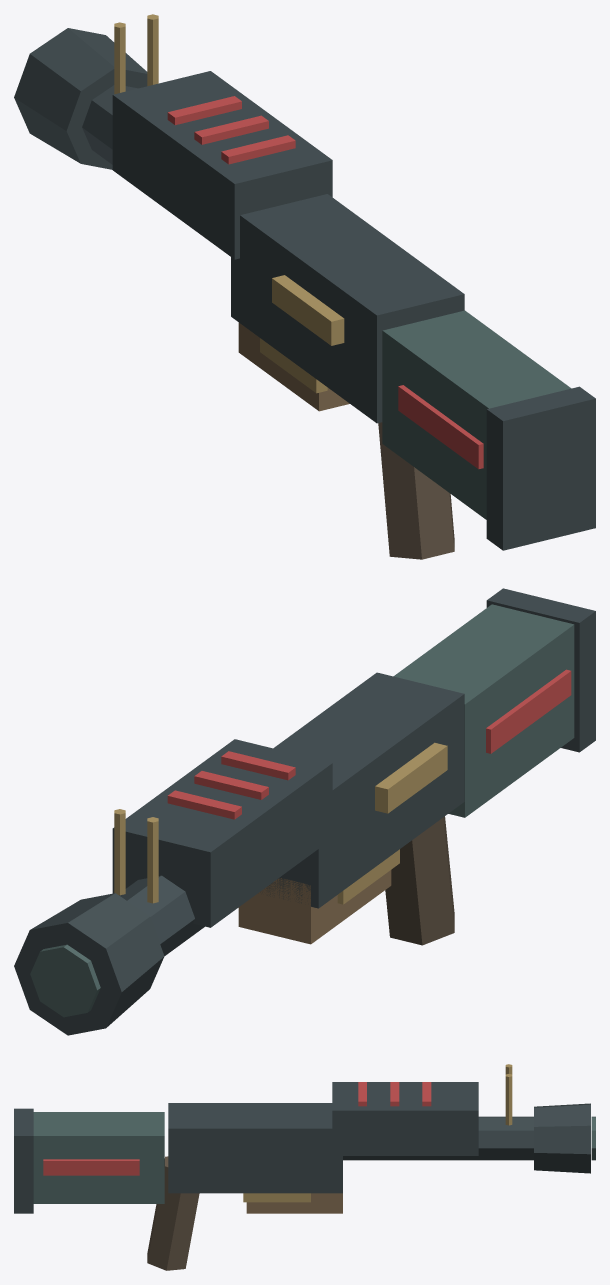
Rendered from Arsenal_DuskFinisher.fbx.
3 renders of one model, top to bottom at view 1: azimuth 30°, elevation 25°; view 2: azimuth 150°, elevation 25°; view 3: azimuth 270°, elevation 25°, orthographic. The views are drawn at different scales.
Visible parts, largest first — view 1: Arsenal_DuskFinisher; view 2: Arsenal_DuskFinisher; view 3: Arsenal_DuskFinisher.
Part boxes in pixels (x1,y1,x2,y2): Arsenal_DuskFinisher: (14,14,595,559); Arsenal_DuskFinisher: (14,588,595,1035); Arsenal_DuskFinisher: (14,1064,595,1270).
Bounding box in the file's own units: 0.217 × 0.599 × 1.63.
